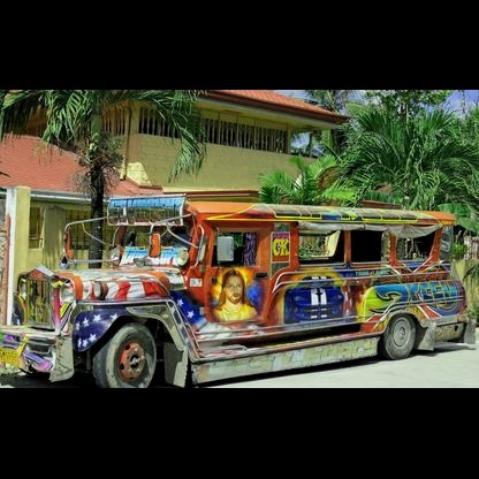jeepney: (7, 195, 479, 388)
